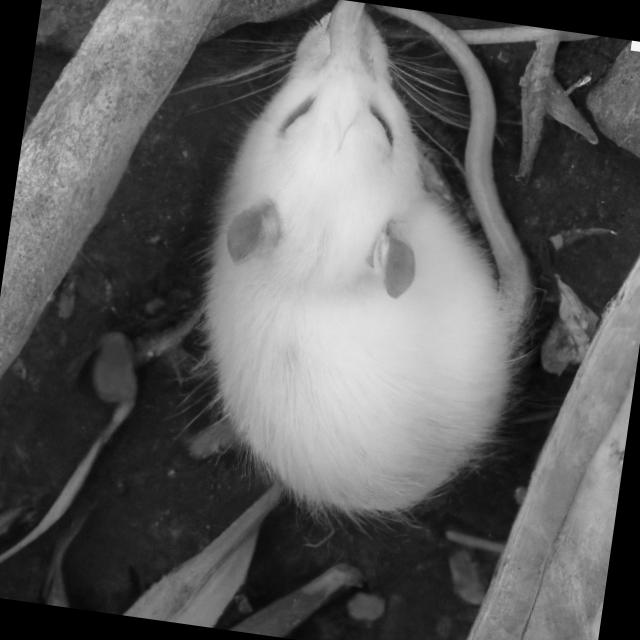rodents: (147, 0, 577, 569)
